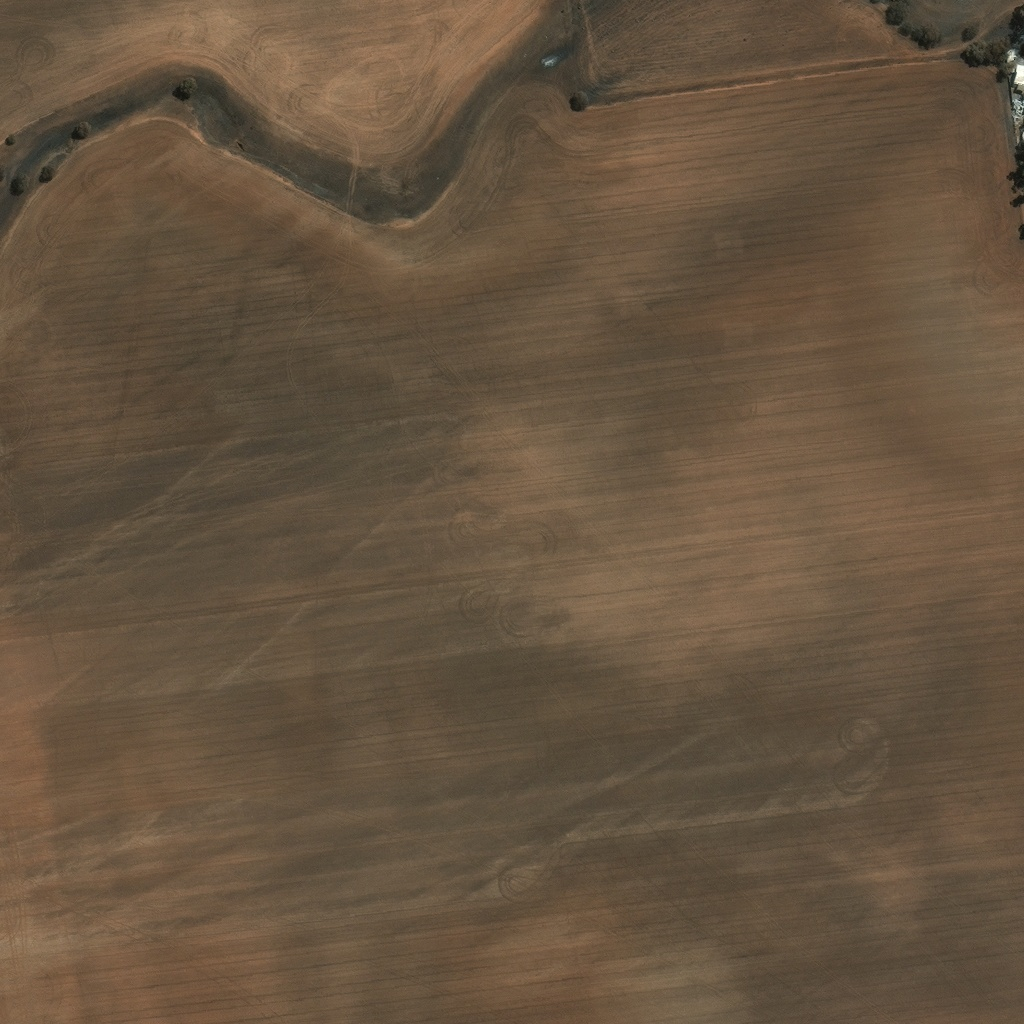4 un-classified: (1015, 64, 1023, 89), (1013, 98, 1023, 112)
